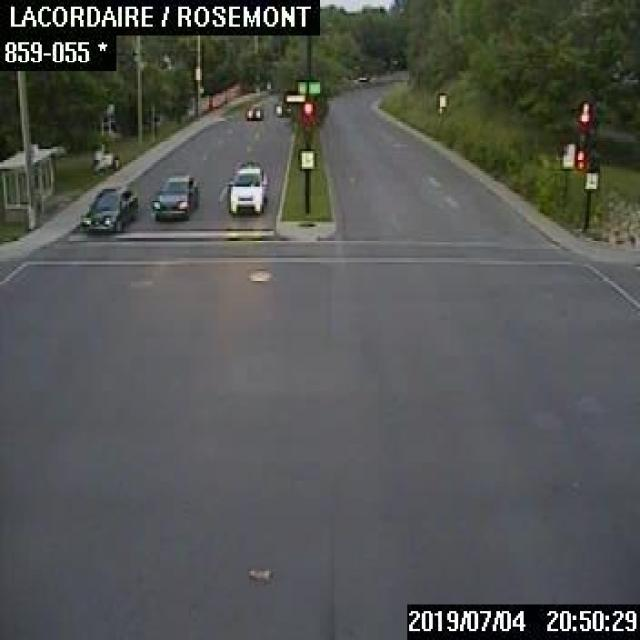vehicle: (80, 185, 136, 231), (151, 173, 197, 218), (227, 165, 266, 212), (244, 102, 261, 117), (274, 102, 289, 115)
